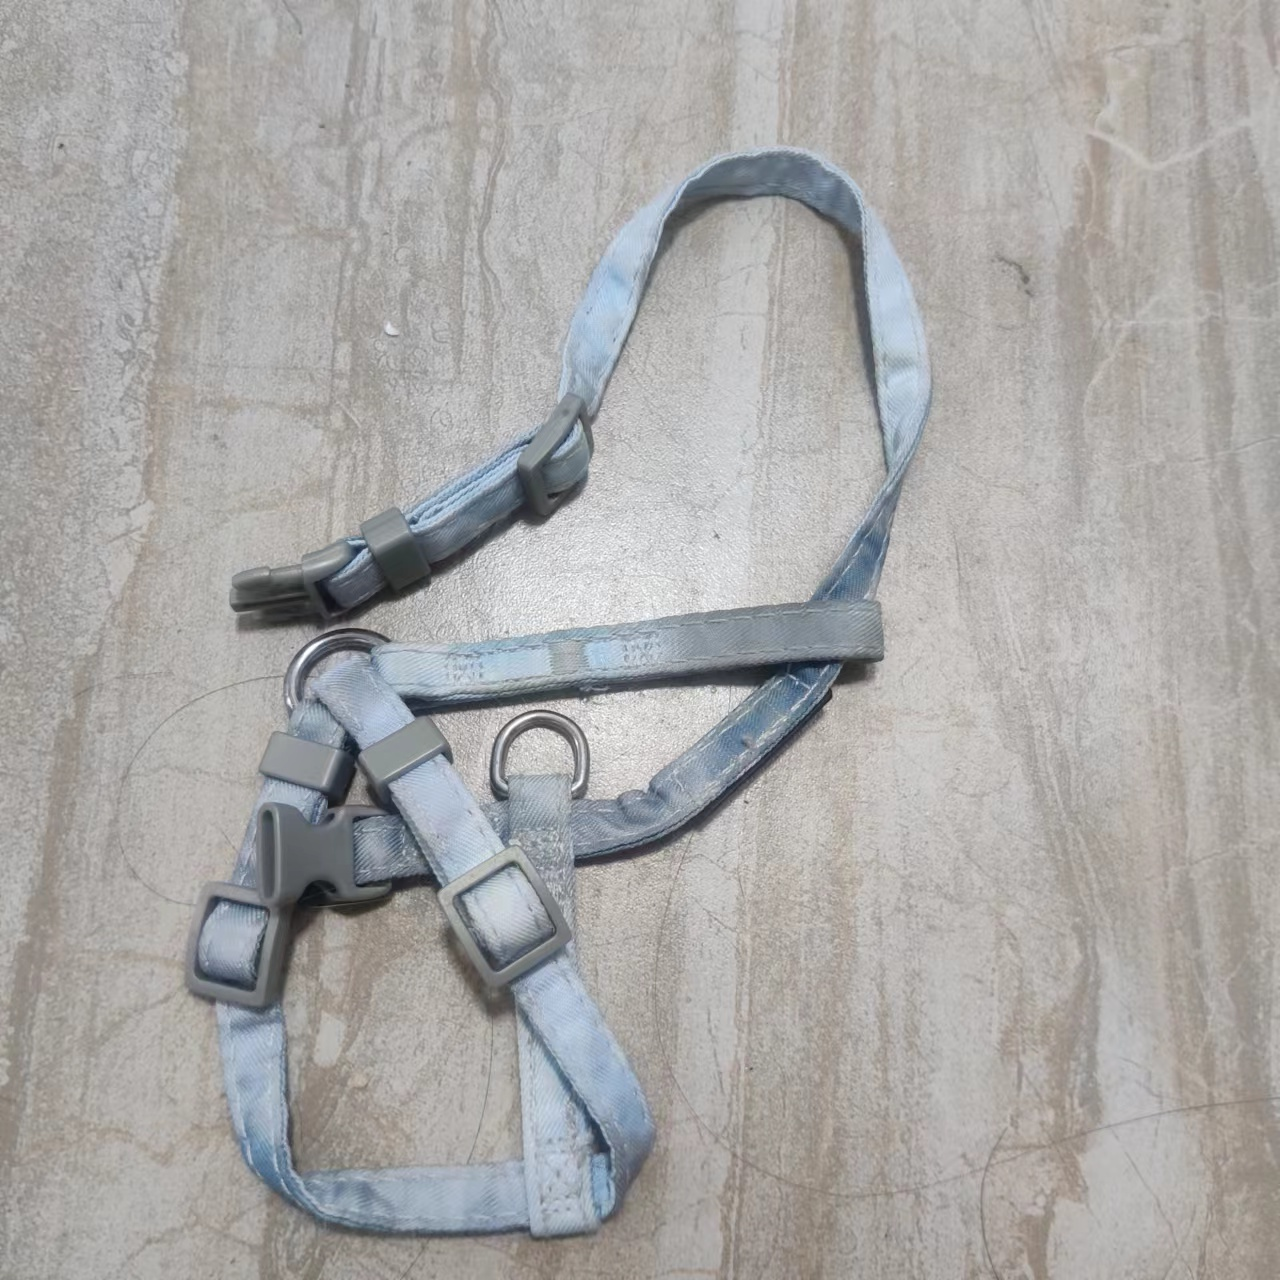9/可回收垃圾/绳子: (183, 147, 931, 1237)
